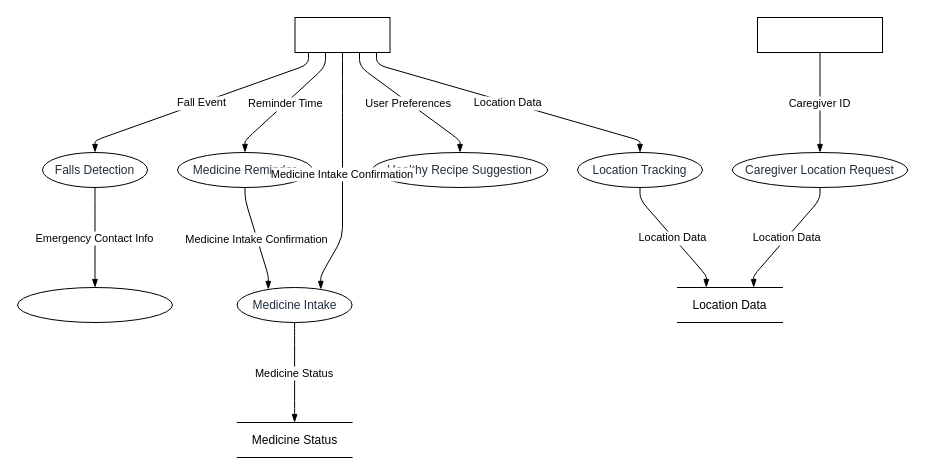
The diagram is 925 pixels wide and 475 high, and some of its shapes have lost their labels. Here are the shapes that lost their labels. From the top down, the centre of each, then its label:
At point (342, 34): "OlderPerson".
At point (819, 34): "Medical Caregiver".
At point (94, 304): "Emergency Notification".
